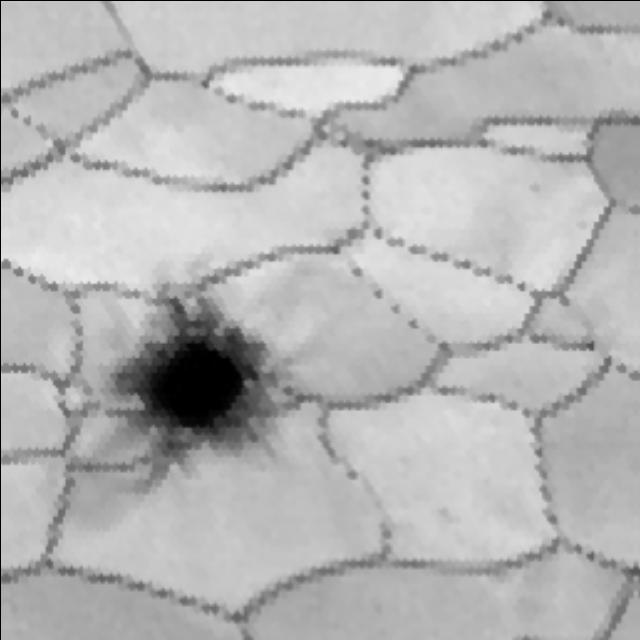good_void: (5, 257, 321, 540)
